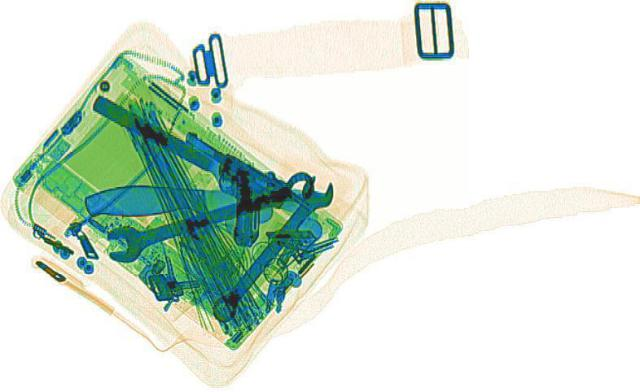Gun: (80, 117, 322, 247)
Knife: (83, 183, 329, 219)
Wrench: (88, 168, 336, 264), (198, 173, 342, 322)
